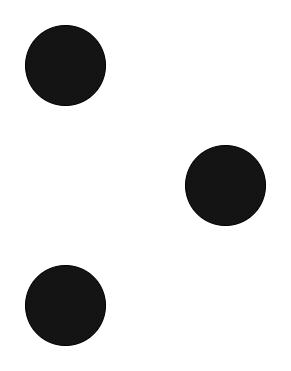O: (18, 18, 271, 356)
